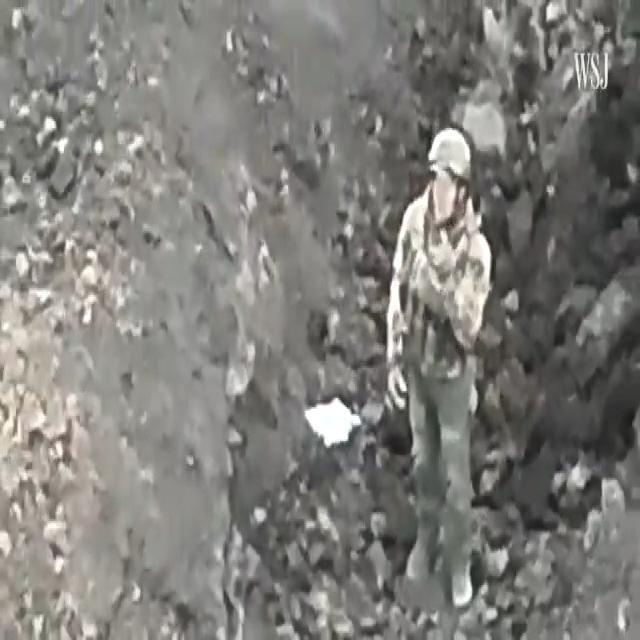MIL_Pax: (388, 129, 491, 606)
